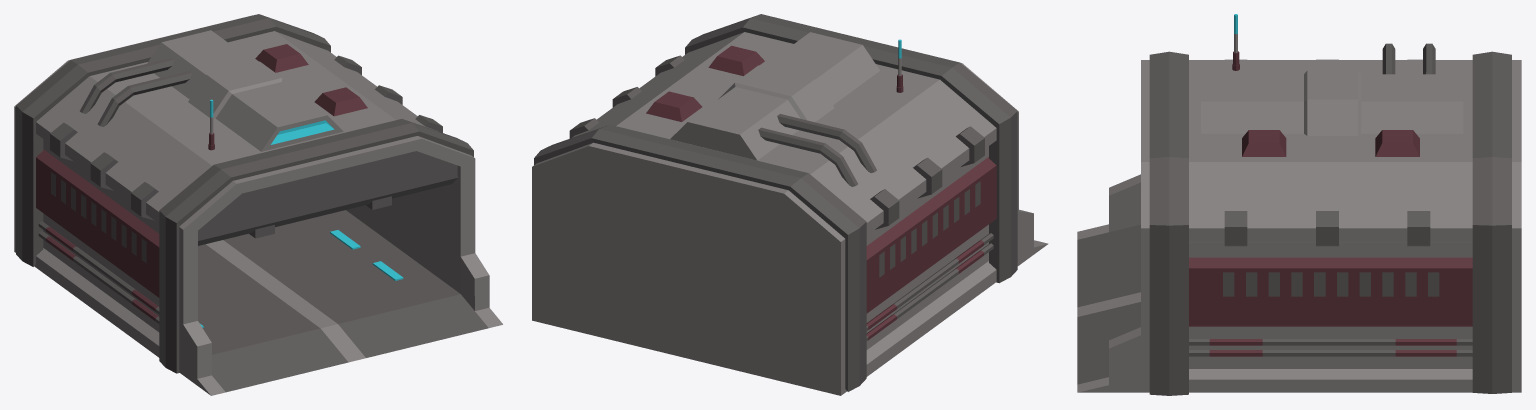
File: scifi-ship-hangar.fbx
The picture shows the model from 3 angles, left to right: view 1: azimuth 30°, elevation 25°; view 2: azimuth 150°, elevation 25°; view 3: azimuth 270°, elevation 25°; orthographic projection. The views are drawn at different scales.
Parts seen in each view (by area): view 1: scifi-ship-hangar; view 2: scifi-ship-hangar; view 3: scifi-ship-hangar.
Part boxes in pixels (<box>): scifi-ship-hangar: <box>14,14,502,395</box>; scifi-ship-hangar: <box>532,14,1048,395</box>; scifi-ship-hangar: <box>1077,14,1521,395</box>.
Size of the model in its own units: 12 by 8.63 by 13.54.
